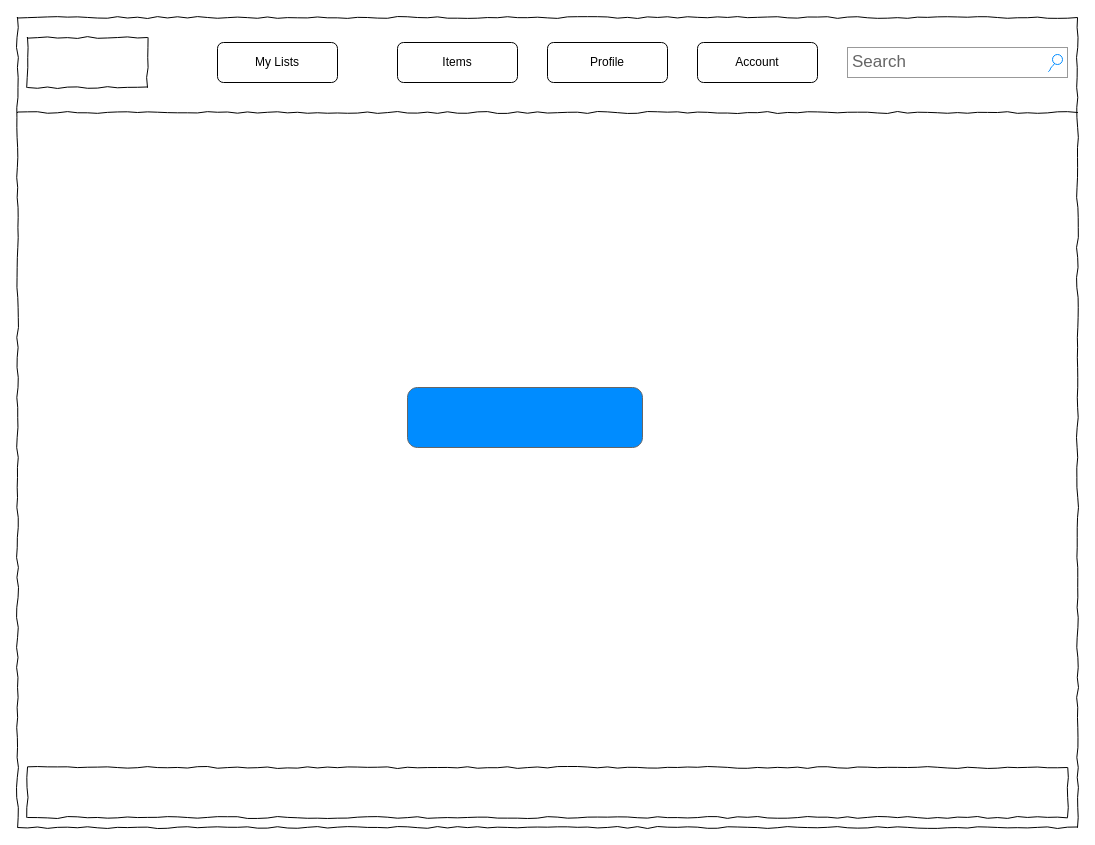
Some shapes in this 1095 by 845 pixel diagram are drawn without their labels. Here are the shapes that lost their labels. From the top down, the centre of each, then its label:
the point at 87,62: LOGO
the point at 524,417: New List
the point at 547,792: External Links
